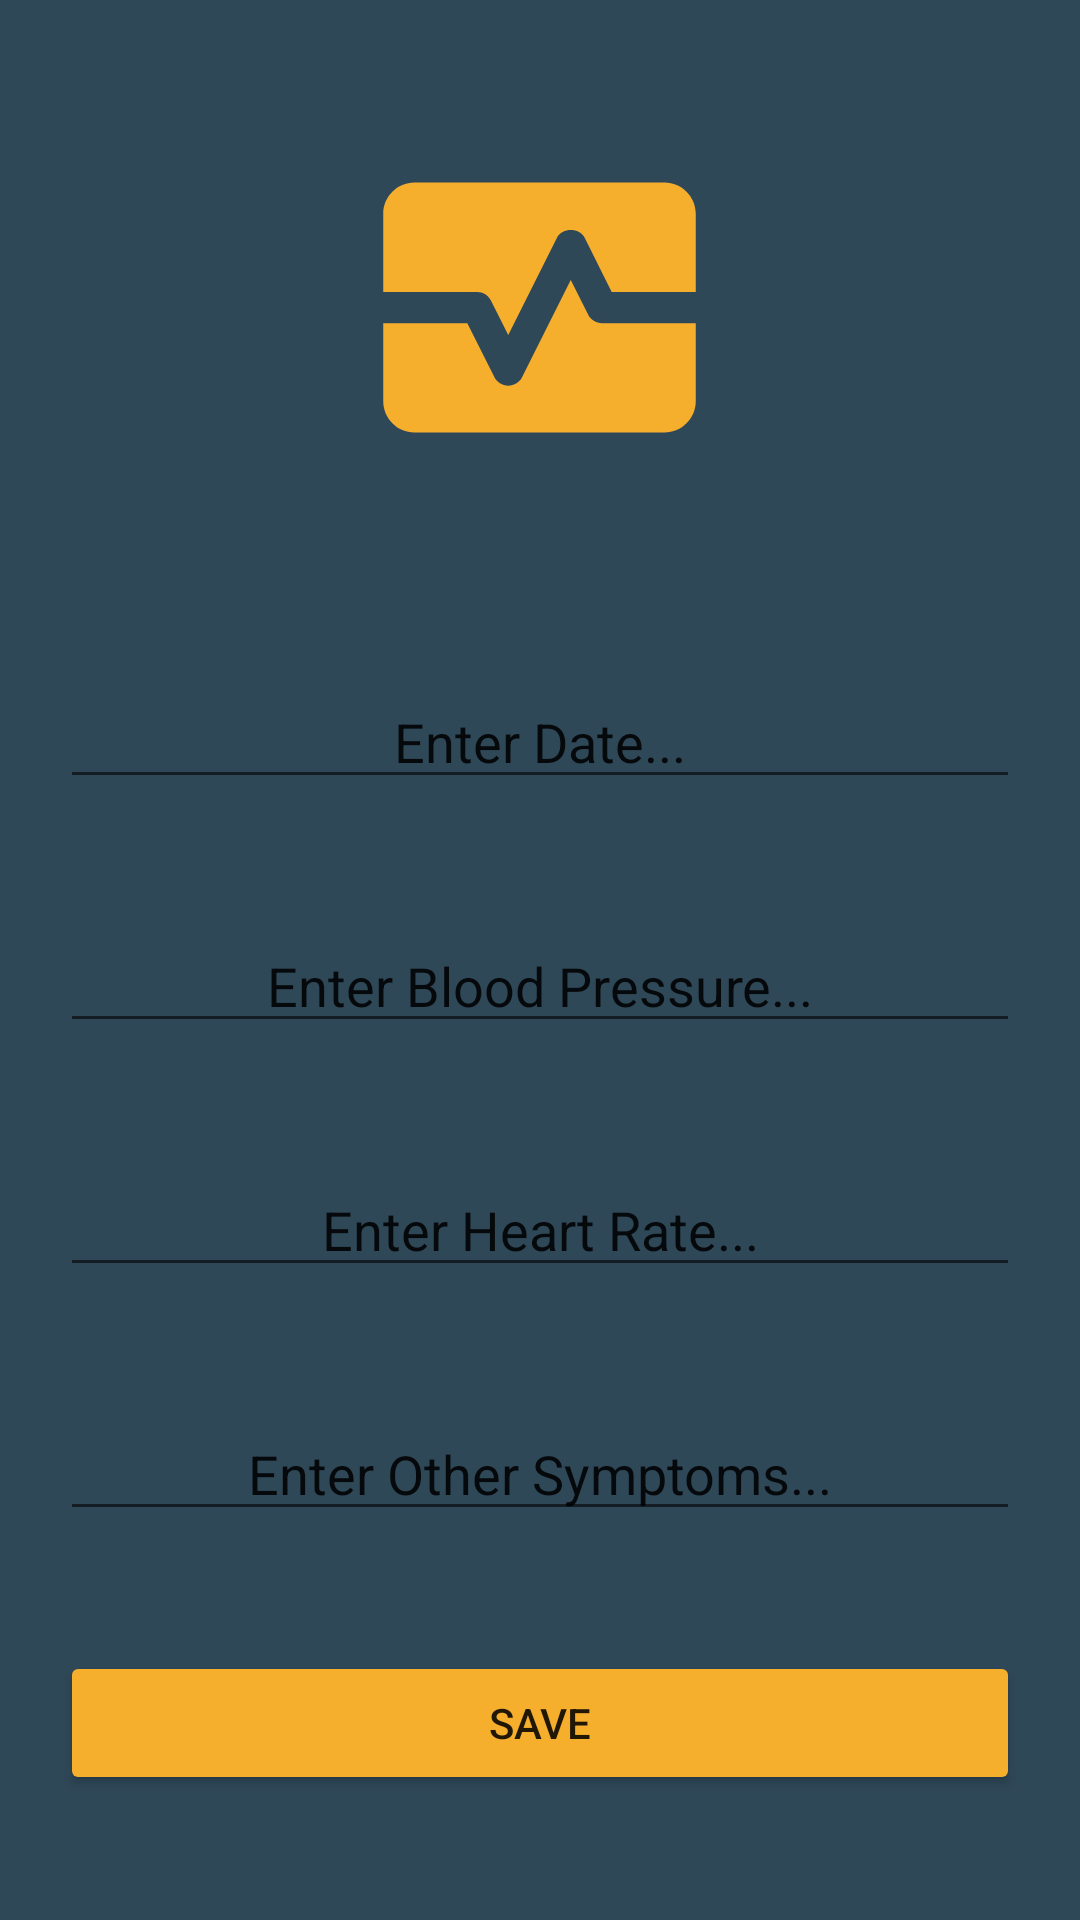

Named icons in this screenshot (1080 × 1920) and their centers, (x=x, y=y):
heart monitor: (x=539, y=307)
